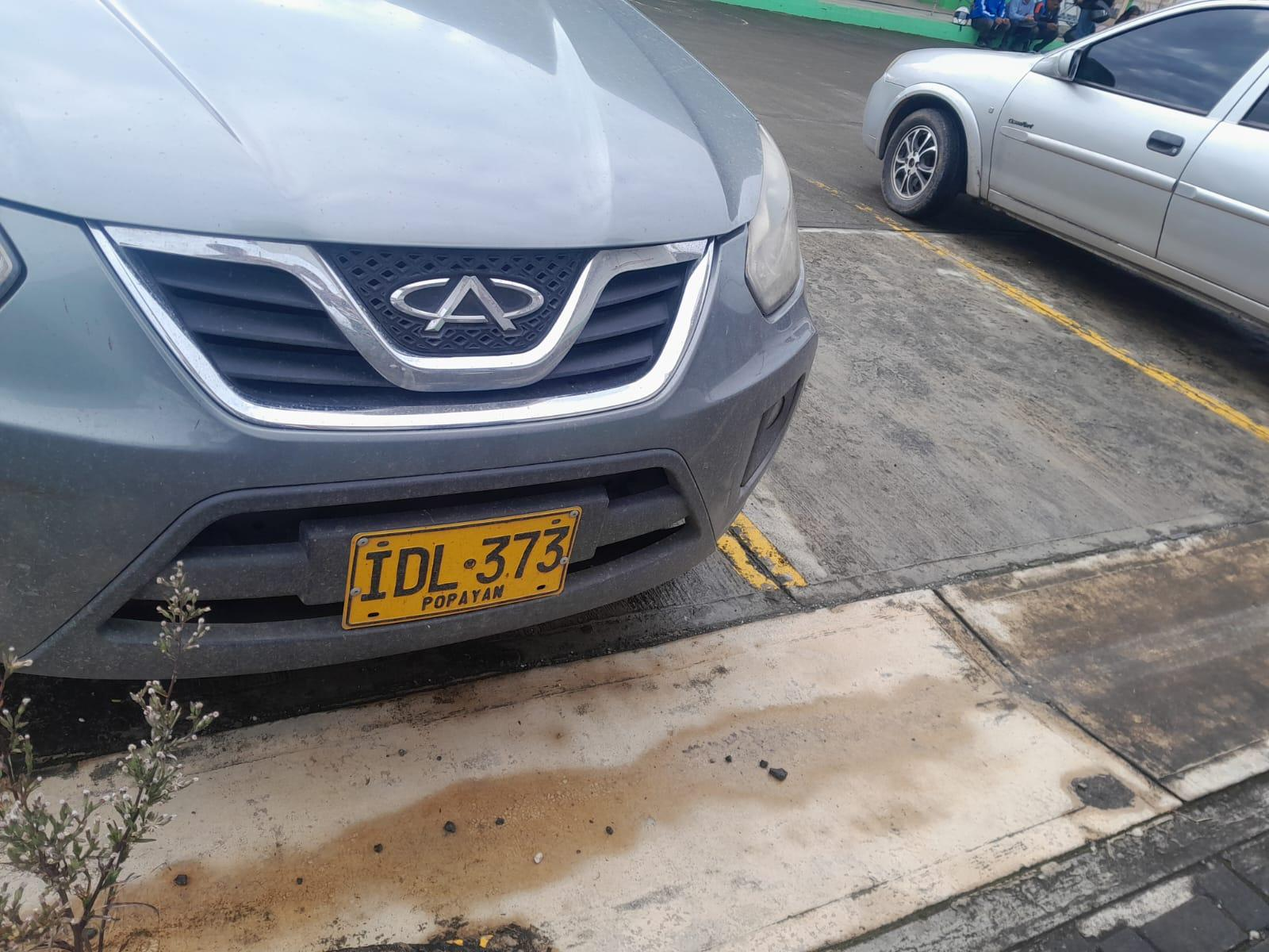placa: (342, 504, 582, 629)
